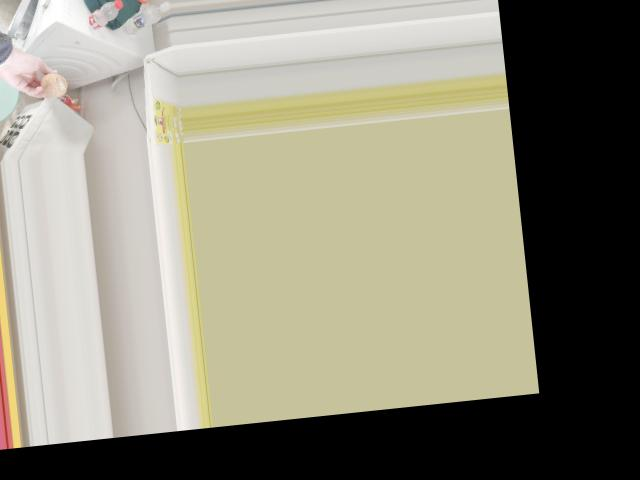sweet_potato: (36, 71, 67, 97)
